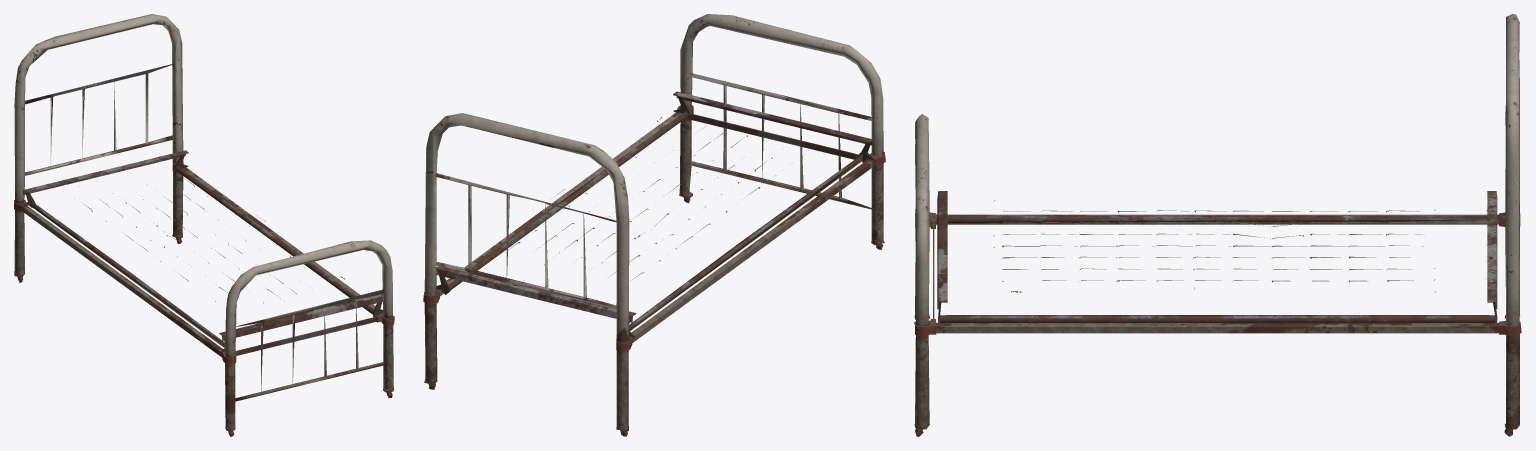
Rendered from old_bed_frame.glb.
The picture shows the model from 3 angles, left to right: view 1: azimuth 30°, elevation 25°; view 2: azimuth 150°, elevation 25°; view 3: azimuth 270°, elevation 25°; orthographic projection. The views are drawn at different scales.
Visible parts, largest first — view 1: old_bed_frame; view 2: old_bed_frame; view 3: old_bed_frame.
Boxes of the visible parts, x1=… form: old_bed_frame: x1=14, y1=14, x2=394, y2=436; old_bed_frame: x1=423, y1=14, x2=885, y2=436; old_bed_frame: x1=914, y1=14, x2=1521, y2=436.
Bounding box in the file's own units: 0.9047 × 1.2 × 2.
Materials: 1 (1 with a texture image).
